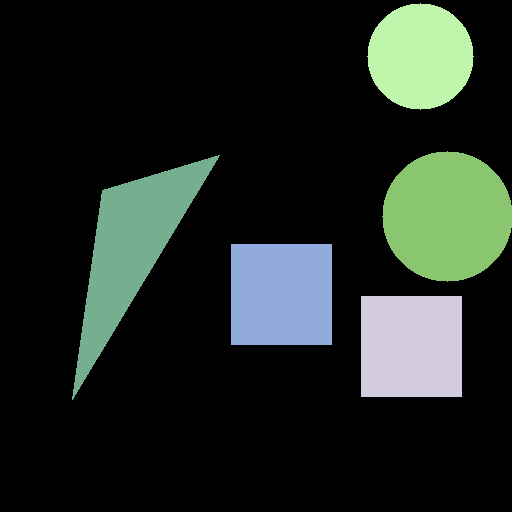circle: (382, 151, 511, 281), (367, 3, 473, 109)
square: (361, 296, 461, 396), (231, 244, 331, 344)
triangle: (72, 155, 219, 399)
